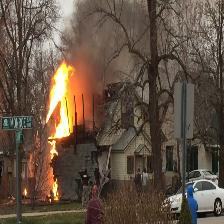fire: (49, 60, 72, 137)
smoke: (77, 8, 133, 80)
